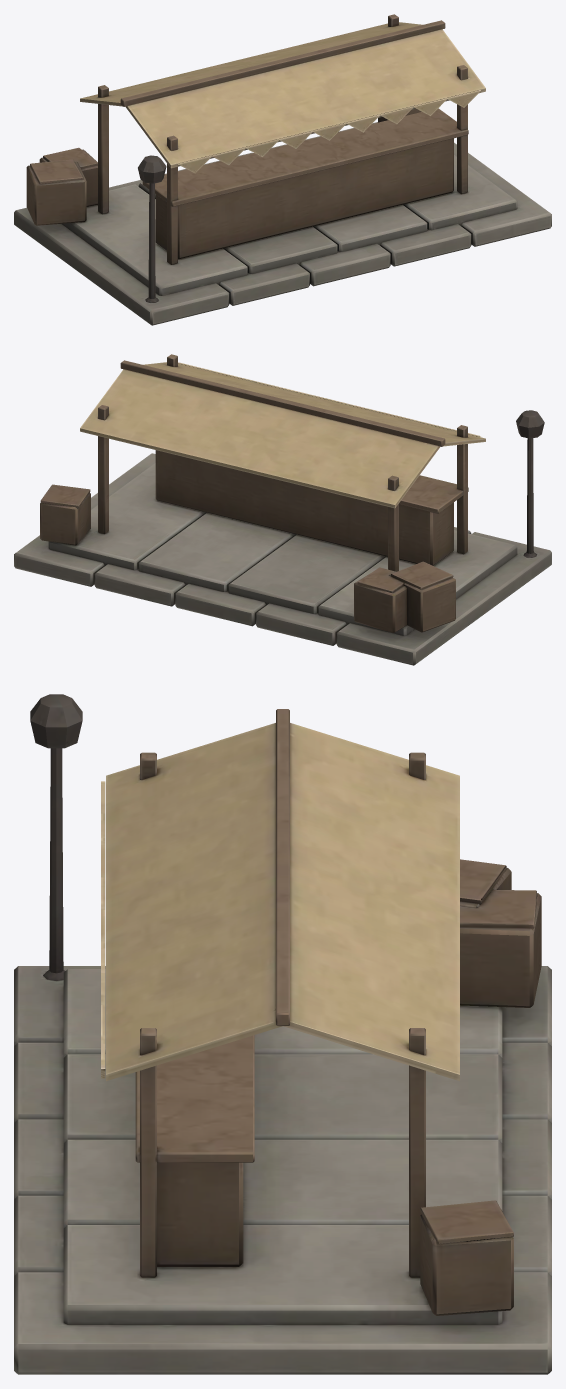
Rendered from skirt_fray.glb.
3 renders of one model, top to bottom at view 1: azimuth 30°, elevation 25°; view 2: azimuth 150°, elevation 25°; view 3: azimuth 270°, elevation 25°, orthographic. The views are drawn at different scales.
Parts seen in each view (by area): view 1: skirt_fray_body; view 2: skirt_fray_body; view 3: skirt_fray_body.
Part boxes in pixels (x1,y1,x2,y2): skirt_fray_body: (14, 14, 551, 325); skirt_fray_body: (14, 354, 551, 665); skirt_fray_body: (14, 694, 551, 1374).
Bounding box in the file's own units: 6.53 × 2.53 × 3.8.
1 material, 1 textured.
